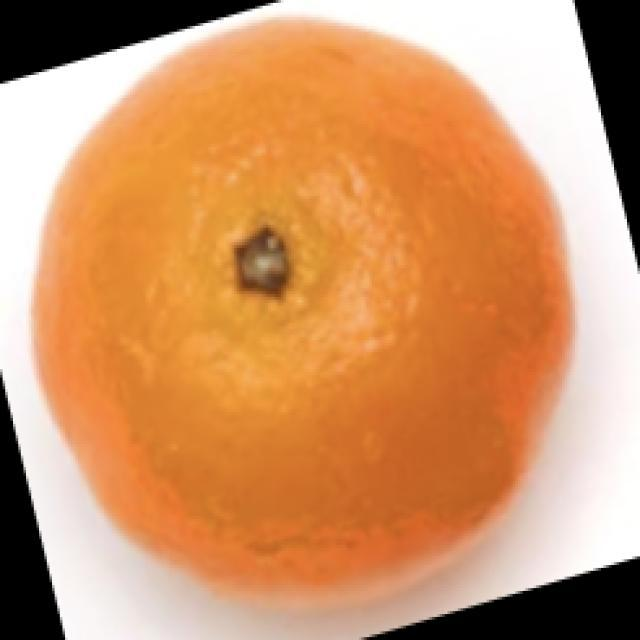matang: (35, 21, 568, 586)
